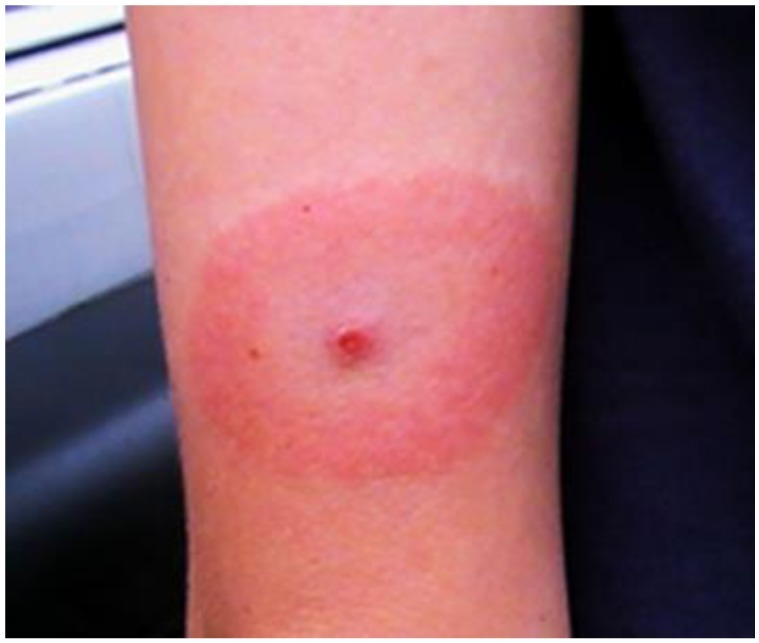Ringworm: (164, 172, 568, 488)
